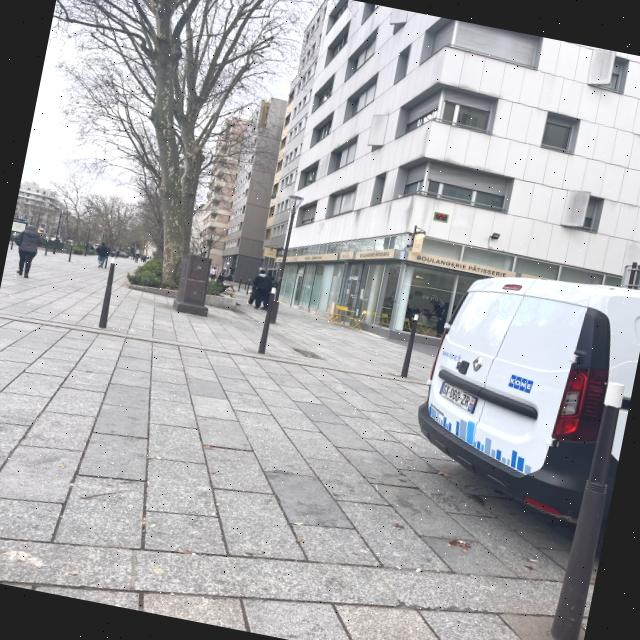Autre: (434, 374, 489, 416)
